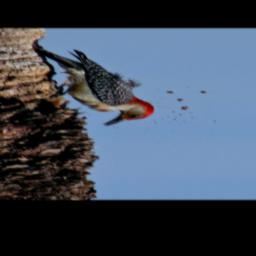Woodpecker: (30, 45, 156, 126)
